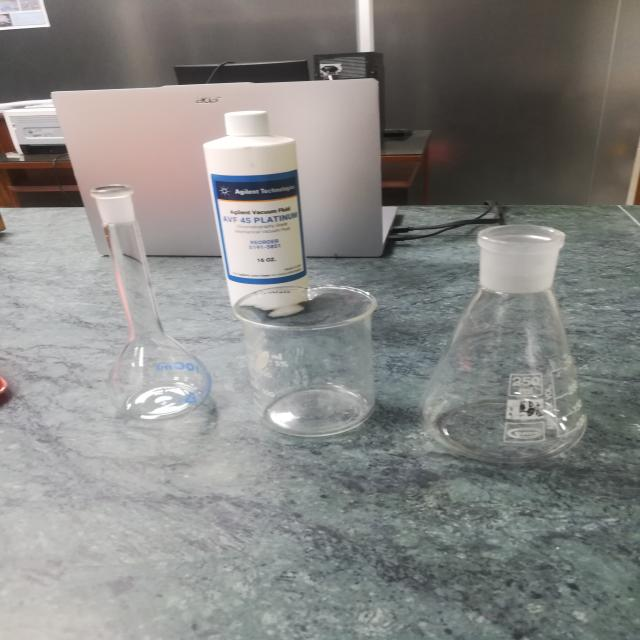Beaker: (235, 271, 397, 447)
Conical_Flask: (409, 200, 616, 484)
Volumetric_Flask: (67, 163, 222, 433)
